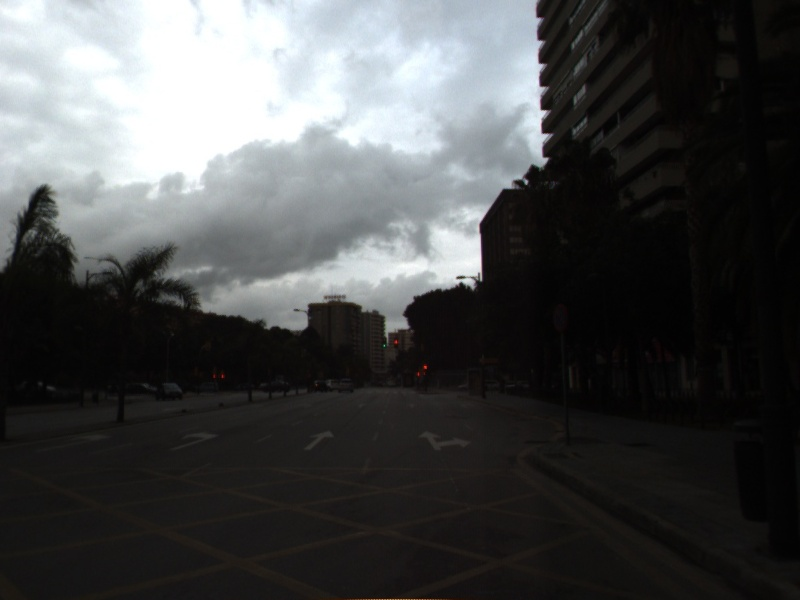LEFT: (32, 431, 115, 454), (167, 428, 221, 453)
STRAIGHT: (301, 428, 337, 452)
STRAIGHT_RIGHT: (416, 428, 472, 452)
